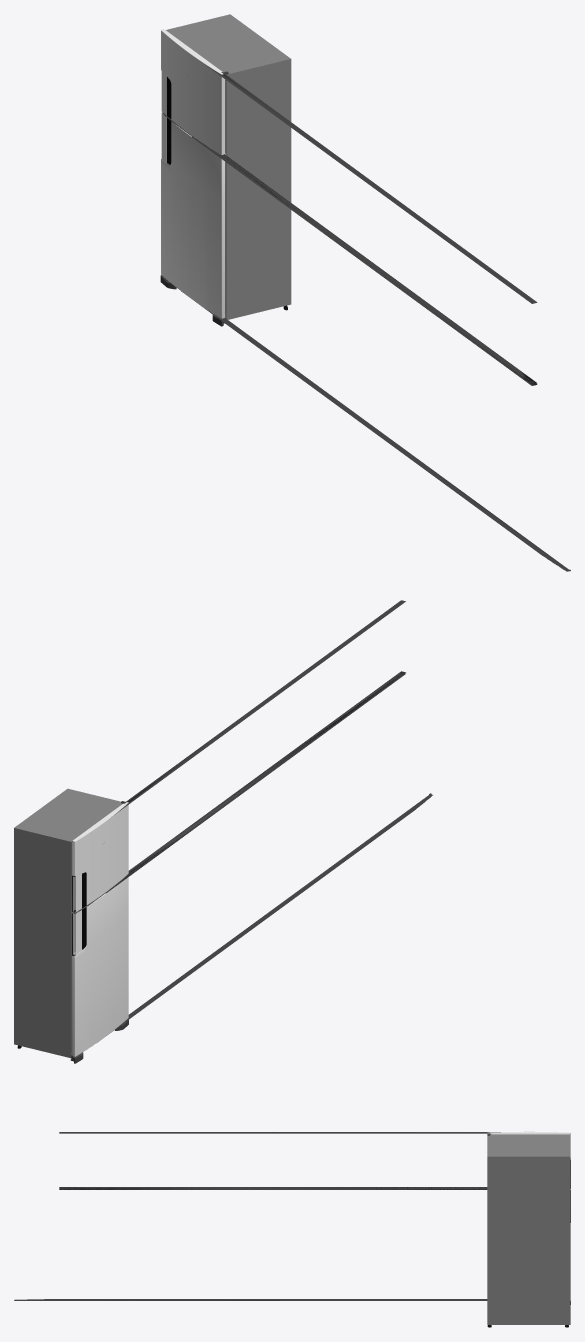
Rendered from Fridge_draco.glb.
3 renders of one model, top to bottom at view 1: azimuth 30°, elevation 25°; view 2: azimuth 150°, elevation 25°; view 3: azimuth 270°, elevation 25°, orthographic. The views are drawn at different scales.
Visible parts, largest first — view 1: Cube.007, Circle.004, Circle.005, Circle.003, Circle.006, Circle.007, Circle.002; view 2: Cube.007, Circle.004, Circle.005, Circle.003, Circle.007, Circle.006, Circle.002; view 3: Cube.007, Circle.003, Circle.007, Circle.006, Circle.002.
Part boxes in pixels (<box>): Cube.007: <box>166,14,291,319</box>; Circle.004: <box>161,121,225,318</box>; Circle.005: <box>161,29,225,154</box>; Circle.003: <box>162,275,570,571</box>; Circle.006: <box>172,120,537,384</box>; Circle.007: <box>198,59,537,303</box>; Circle.002: <box>162,112,537,385</box>; Cube.007: <box>14,788,122,1058</box>; Circle.004: <box>72,877,128,1056</box>; Circle.005: <box>72,802,128,904</box>; Circle.003: <box>72,793,432,1056</box>; Circle.007: <box>72,600,405,841</box>; Circle.006: <box>109,671,405,889</box>; Circle.002: <box>73,673,405,913</box>; Cube.007: <box>487,1135,570,1324</box>; Circle.003: <box>14,1299,487,1300</box>; Circle.007: <box>59,1132,570,1134</box>; Circle.006: <box>59,1187,487,1188</box>; Circle.002: <box>59,1189,487,1189</box>.
Size of the model in its own units: 27.39 by 15.55 by 45.48.
10 materials, 1 textured.
